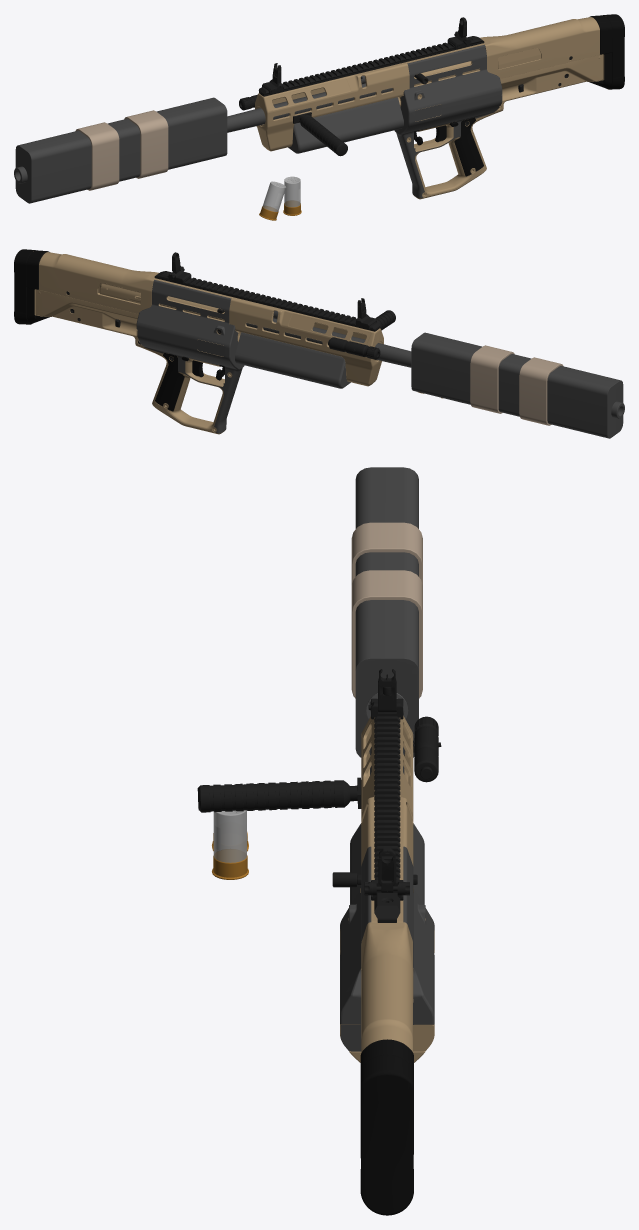
File: tavor_rifle.glb
The picture shows the model from 3 angles, top to bottom: view 1: azimuth 30°, elevation 25°; view 2: azimuth 150°, elevation 25°; view 3: azimuth 270°, elevation 25°; orthographic projection. The views are drawn at different scales.
Parts seen in each view (by area): view 1: IWI_tavor_ST12, supressor, cint, bullets_shotgun, grip; view 2: IWI_tavor_ST12, supressor, cint, laser; view 3: IWI_tavor_ST12, supressor, cint, grip, bullets_shotgun, laser.
Part boxes in pixels (x1,y1,x2,y2): IWI_tavor_ST12: [227, 14, 624, 199]; supressor: [14, 97, 227, 203]; cint: [75, 110, 168, 190]; bullets_shotgun: [259, 176, 301, 220]; grip: [293, 112, 347, 156]; IWI_tavor_ST12: [14, 249, 411, 434]; supressor: [411, 332, 624, 438]; cint: [470, 345, 563, 425]; laser: [328, 337, 380, 359]; IWI_tavor_ST12: [332, 669, 434, 1215]; supressor: [355, 467, 418, 757]; cint: [351, 522, 422, 698]; grip: [197, 777, 361, 812]; bullets_shotgun: [212, 810, 248, 879]; laser: [413, 716, 441, 782].
Size of the model in its own units: 0.1432 by 0.0381 by 0.0251.
